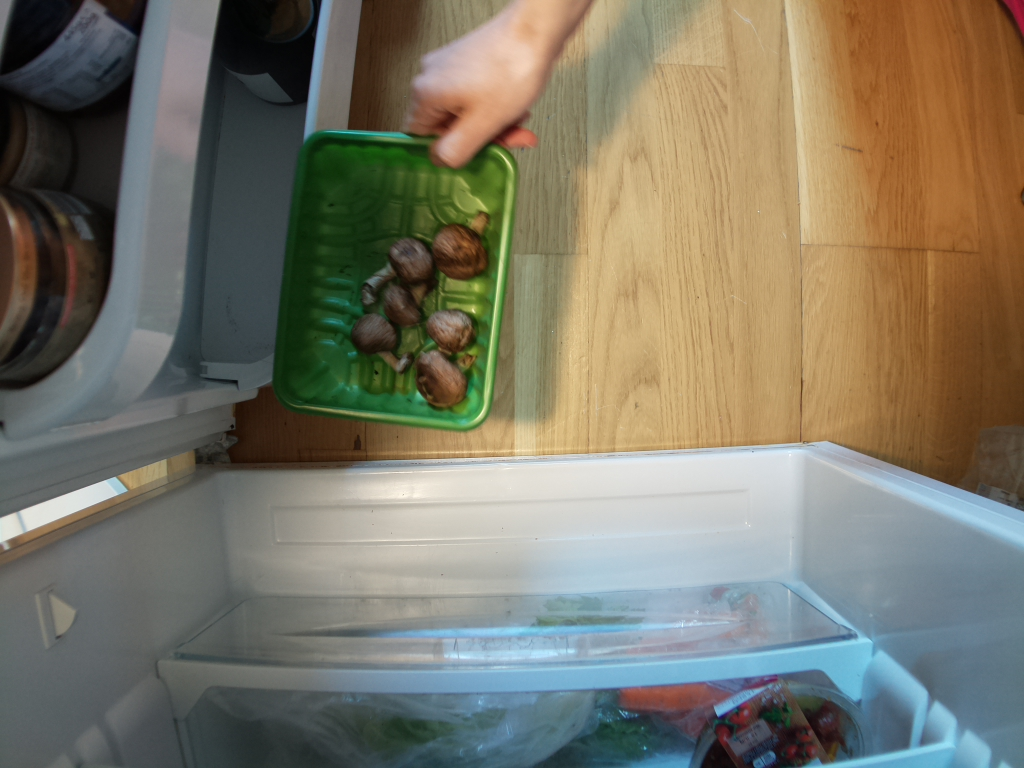mushrooms-bad: (269, 128, 522, 432)
